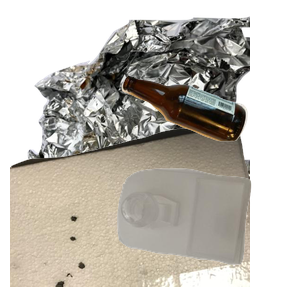glass: (119, 73, 300, 207)
metal: (19, 14, 259, 194)
plastic: (115, 166, 300, 300)
trash: (10, 120, 250, 300)
